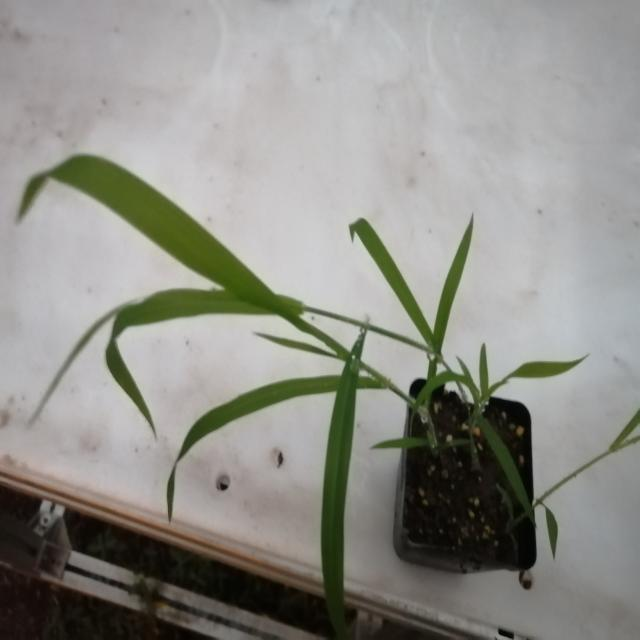crabgrass: (29, 144, 457, 502)
